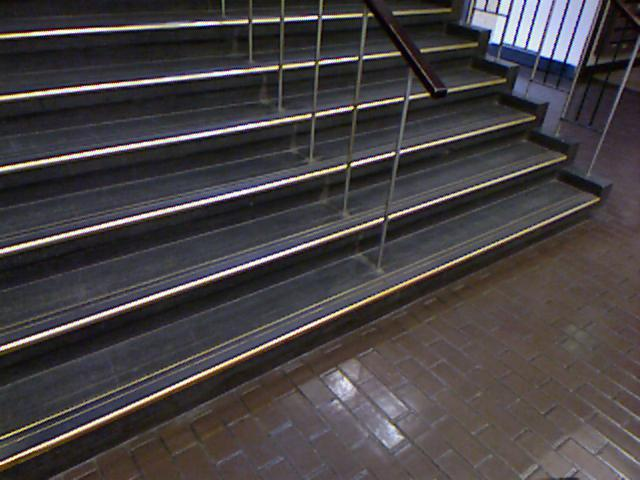Escaleras: (0, 4, 598, 479)
